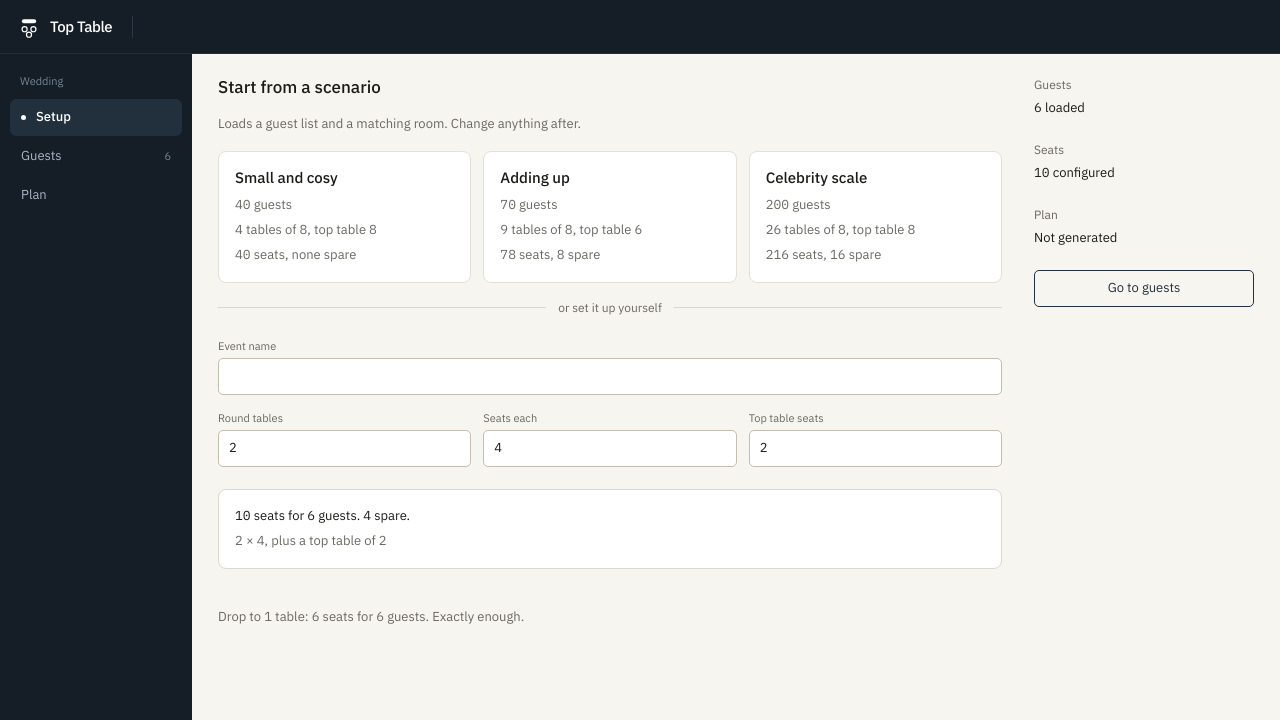
Test: AC2 — pinned guests keep their table when the allocation is cleared (the criterion the ticket turns on) › two pinned guests stay at their own tables, by name, and the Pinned figure is unchanged
The width and height of the screenshot is (1280, 720).
Step 1. Click the button "Plan" → (96, 195), box [10,177,182,214]
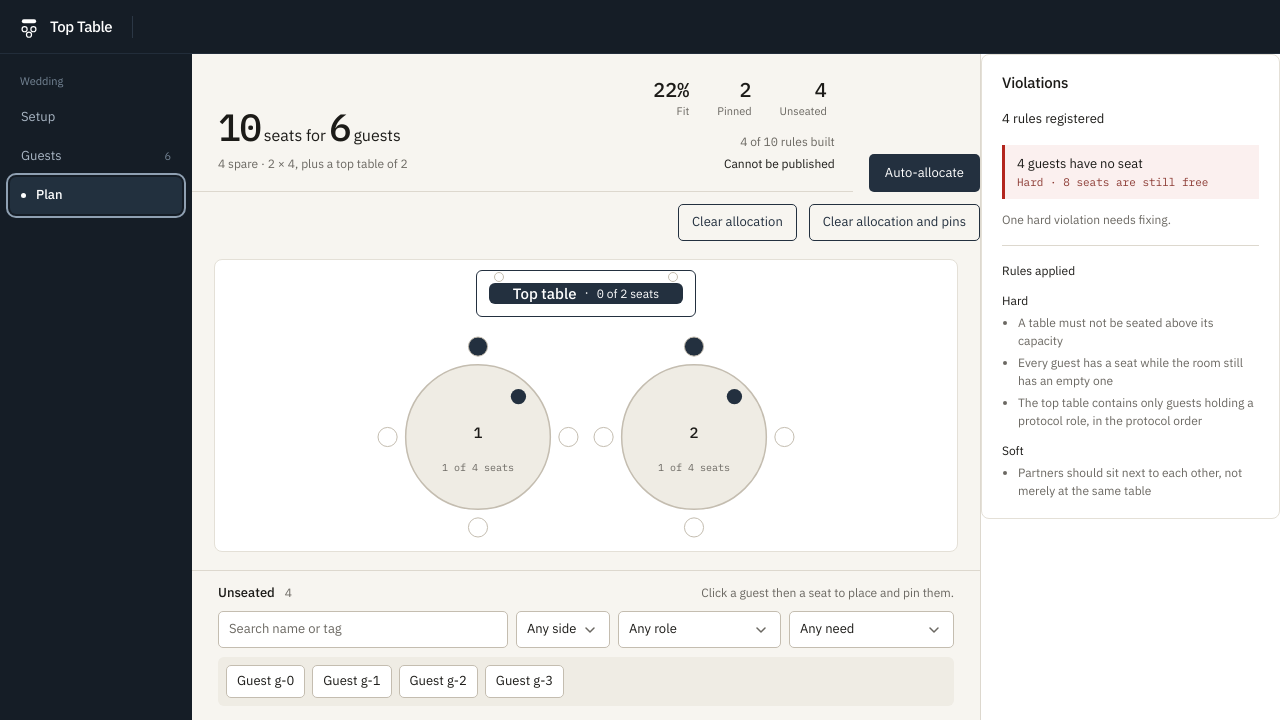
Step 2. Click the button "Auto-allocate" → (924, 173), box [869,154,980,192]
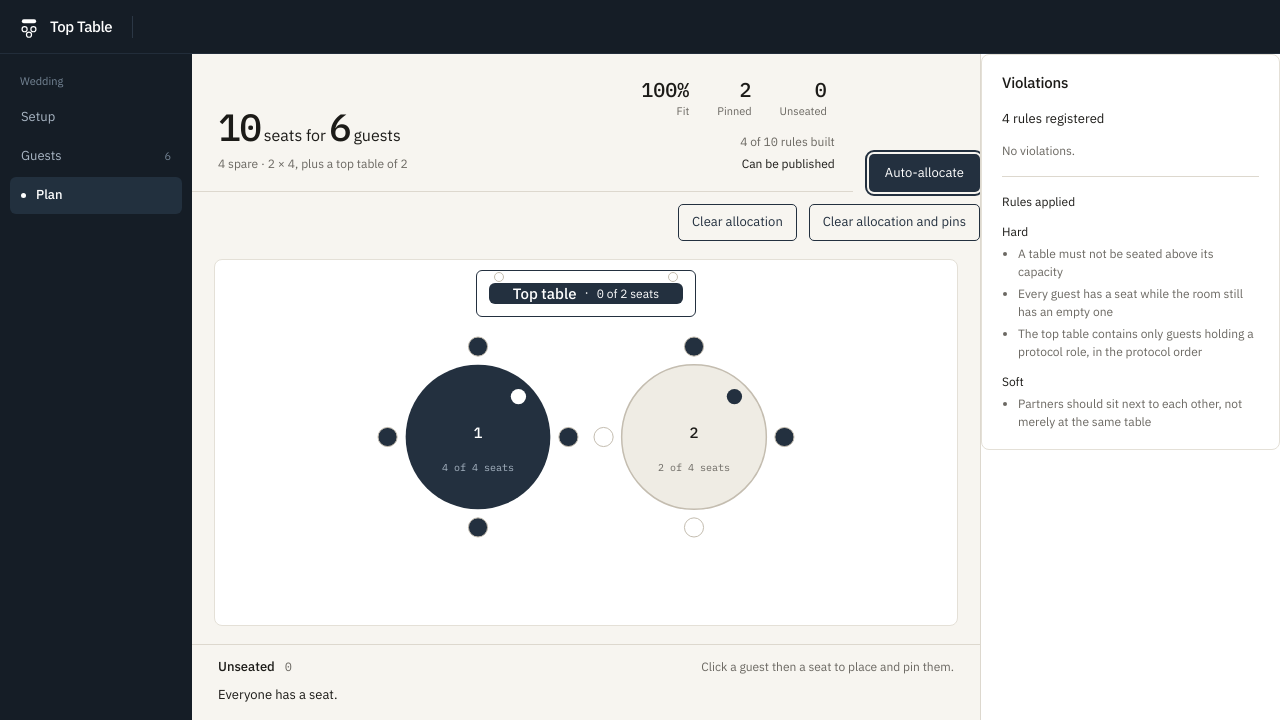
Step 3. Click the button "Clear allocation" → (737, 223), box [678,204,797,241]
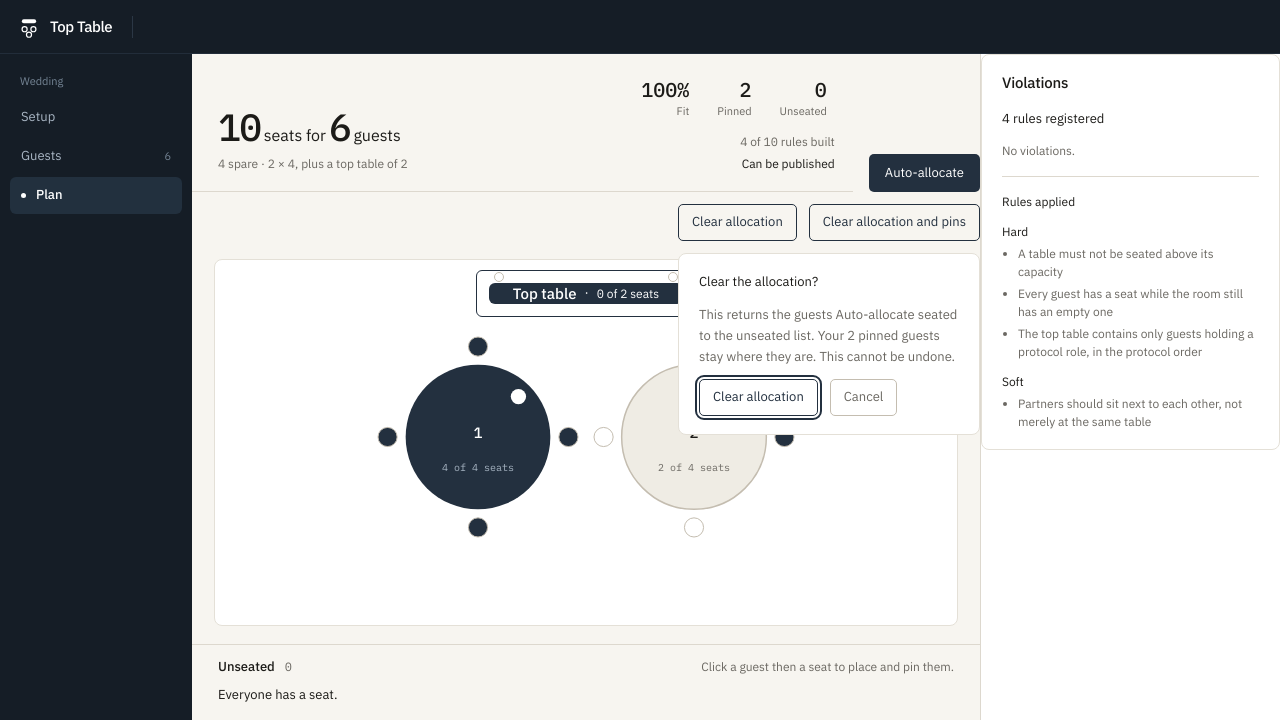
Step 4. Click the button "Clear allocation" below "Clear the allocation?" → (758, 398), box [699,379,818,416]
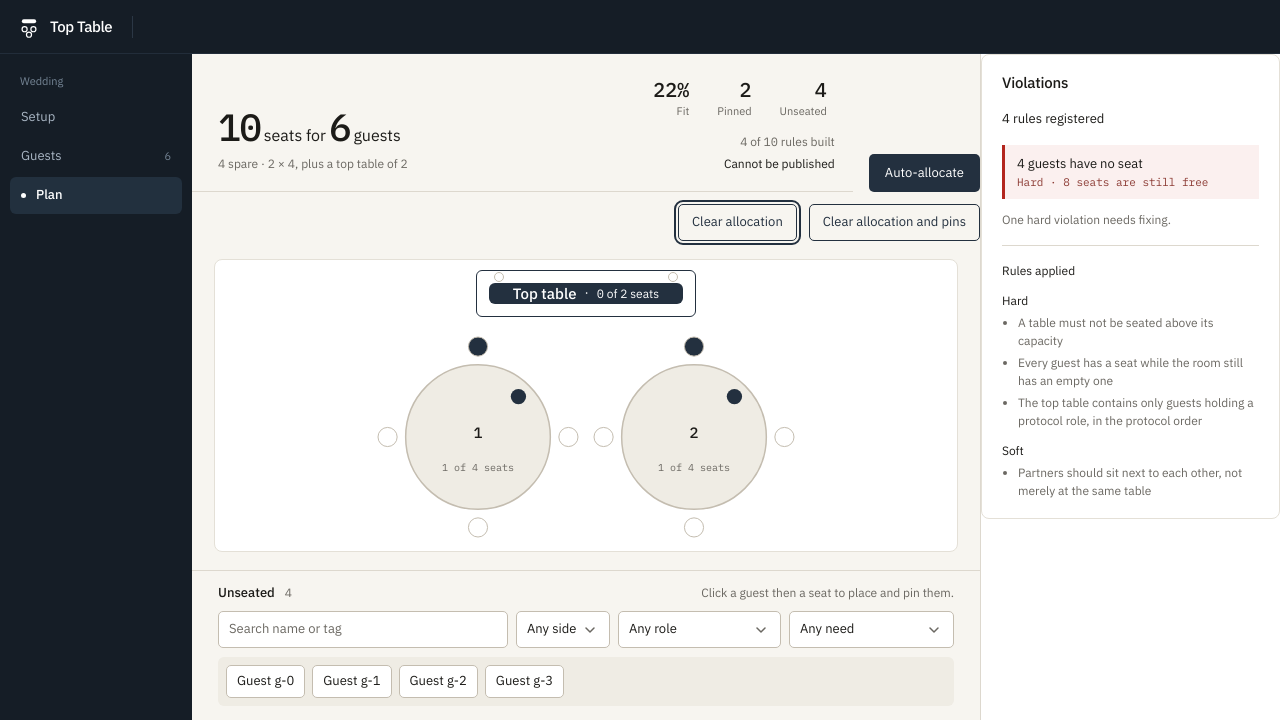
Step 5. Click the button "1 1 of 4 seats" → (478, 437), box [378,337,578,537]
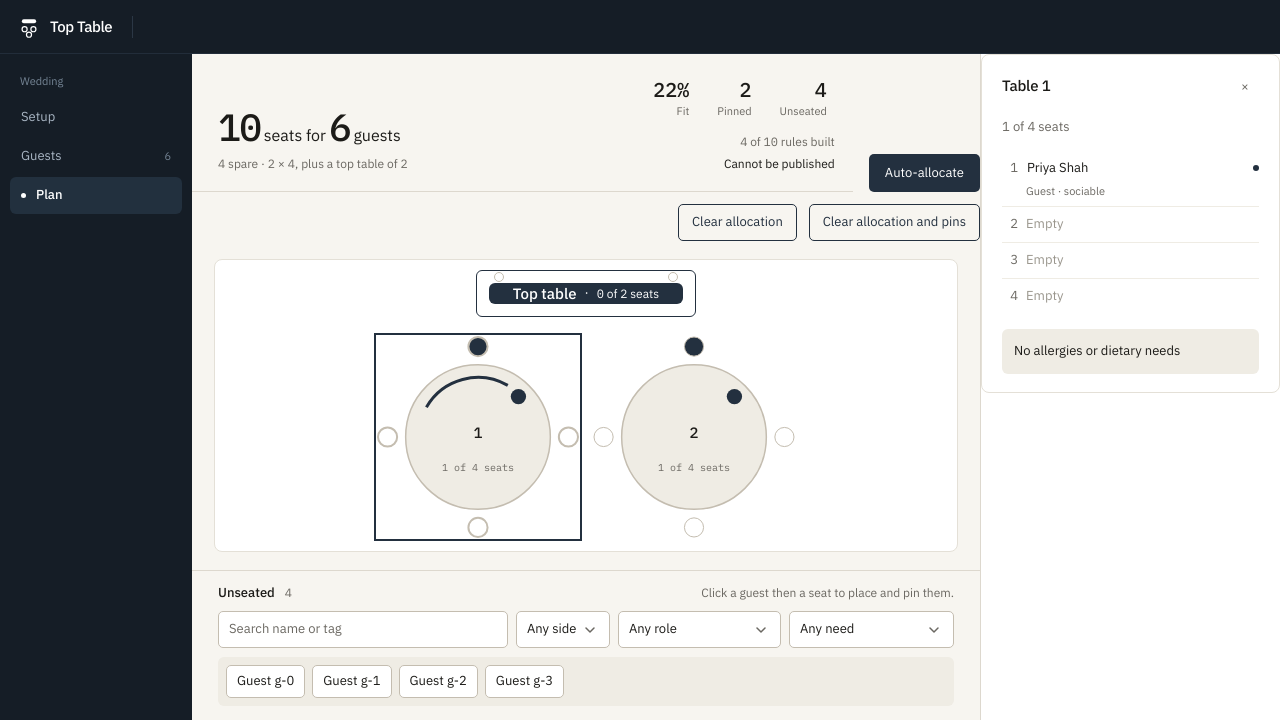
Expected: the list "1 Priya Shah Guest · sociable 2 Empty 3 Empty 4 Empty" is shown, [1002,150,1259,313]
Step 6. Click the button "2 1 of 4 seats" → (694, 437), box [594,337,794,537]
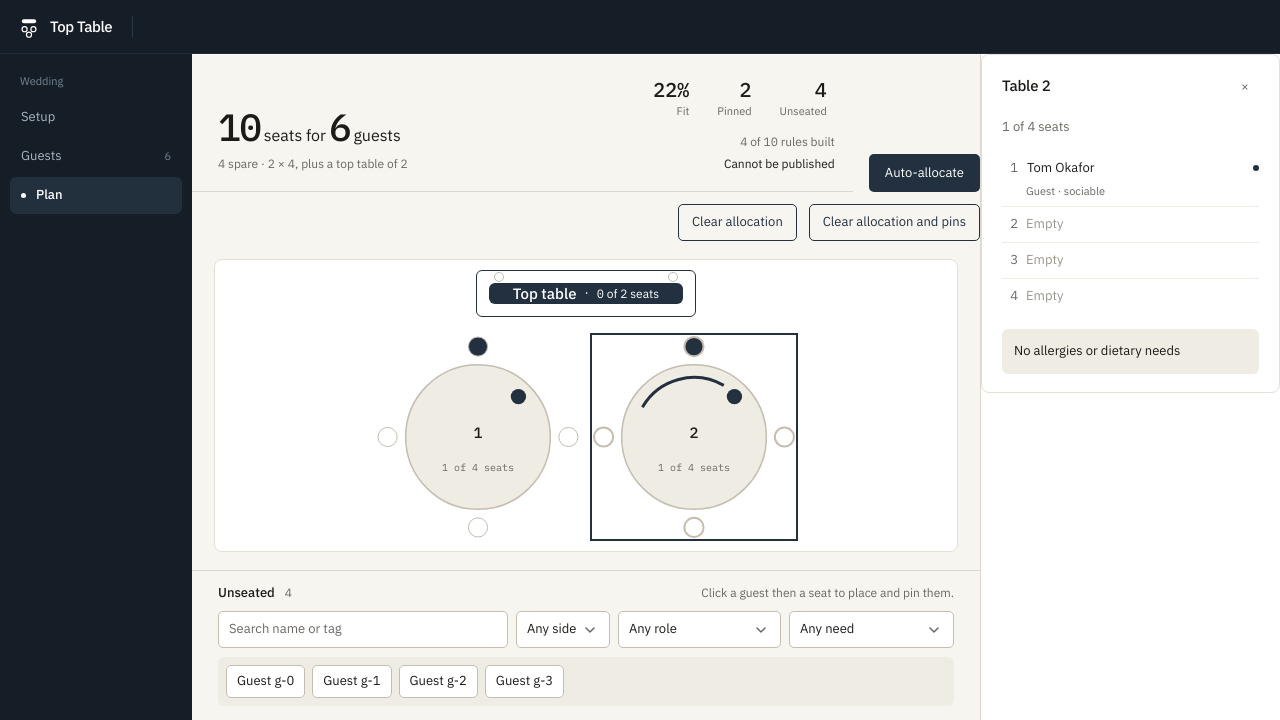
Expected: the list "1 Tom Okafor Guest · sociable 2 Empty 3 Empty 4 Empty" is shown, [1002,150,1259,313]
Expected: the button "Priya Shah" is gone
